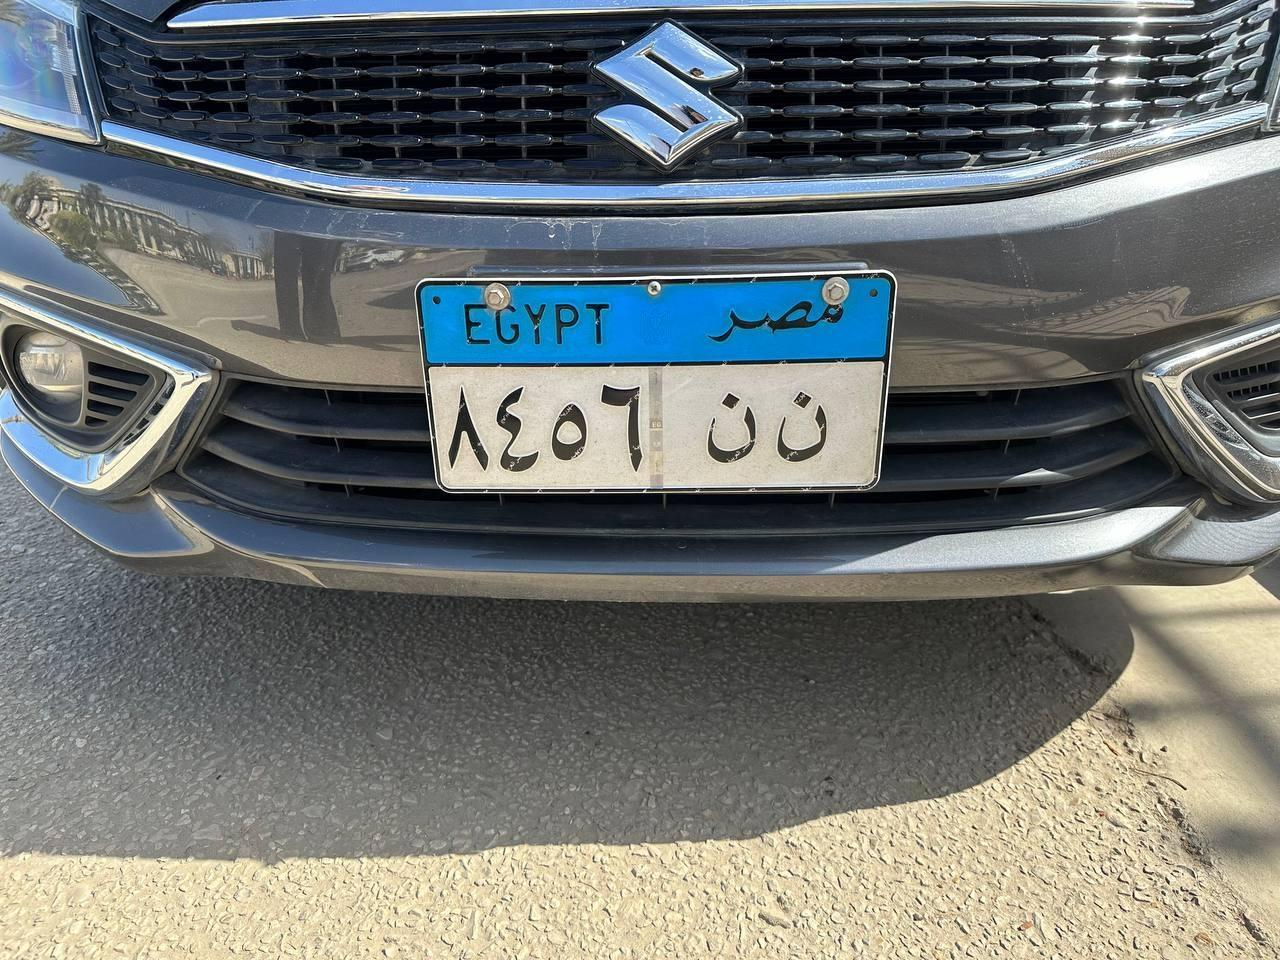4: (492, 384, 540, 478)
5: (545, 399, 596, 462)
6: (598, 379, 652, 479)
8: (435, 380, 491, 478)
License Plate: (406, 268, 893, 497)
Noon: (768, 384, 825, 474), (701, 390, 760, 472)
